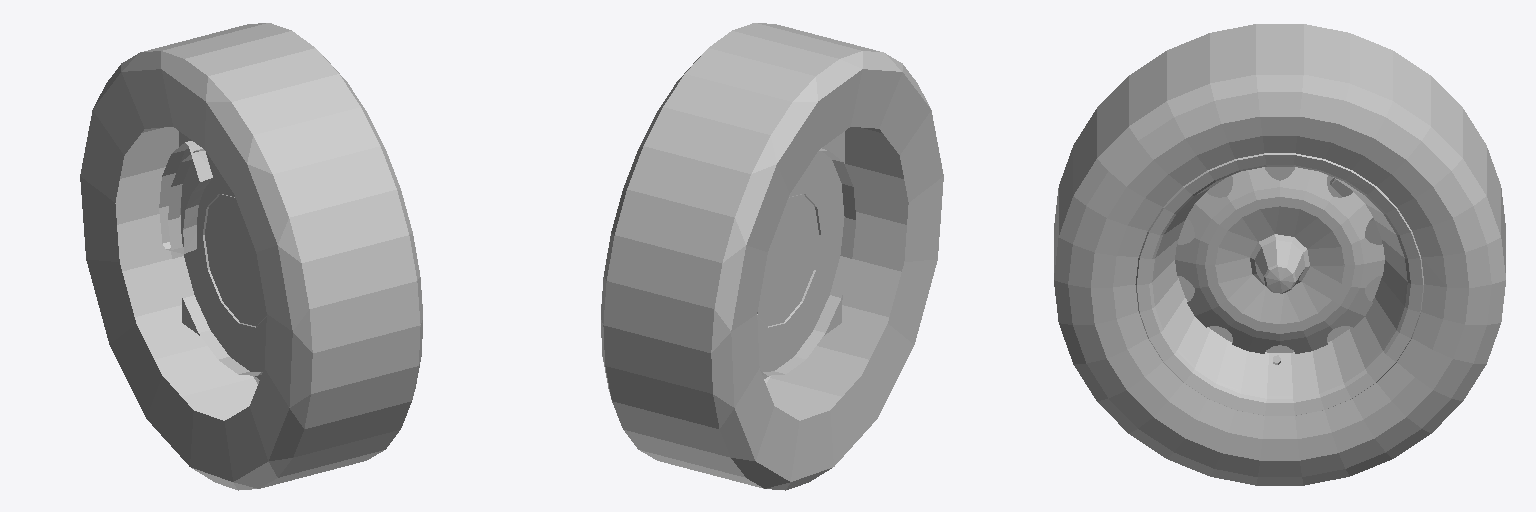
The model's file is TirePDX-mtl.obj.
The picture shows the model from 3 angles: view 1: azimuth 30°, elevation 25°; view 2: azimuth 150°, elevation 25°; view 3: azimuth 270°, elevation 25°; orthographic projection.
Parts seen in each view (by area): view 1: CHALLENGER71.004_CHALLENGER71.007; view 2: CHALLENGER71.004_CHALLENGER71.007; view 3: CHALLENGER71.004_CHALLENGER71.007.
Boxes of the visible parts, x1=… form: CHALLENGER71.004_CHALLENGER71.007: x1=80, y1=23, x2=422, y2=490; CHALLENGER71.004_CHALLENGER71.007: x1=601, y1=23, x2=943, y2=490; CHALLENGER71.004_CHALLENGER71.007: x1=1054, y1=24, x2=1505, y2=485.
Size of the model in its own units: 0.2377 by 0.6429 by 0.6434.